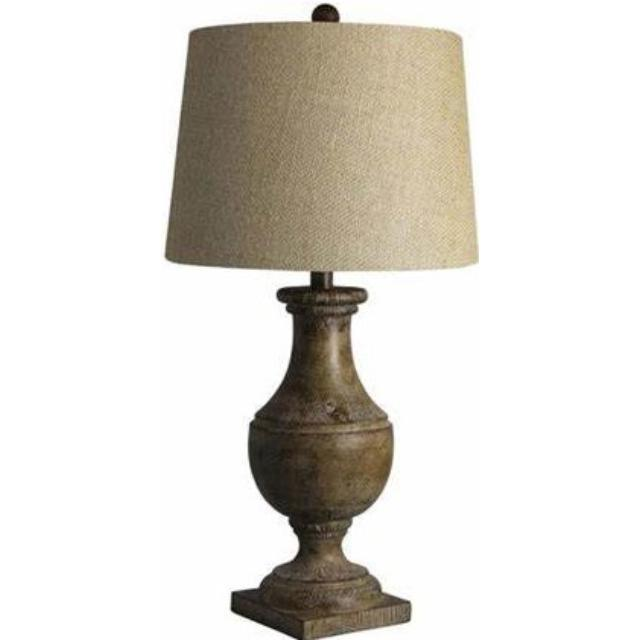lamp: (164, 3, 479, 640)
